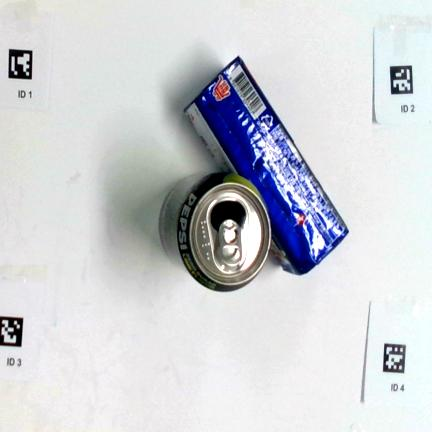can_pepsi_zero: (160, 173, 270, 291)
cracker_ace: (185, 57, 348, 274)
